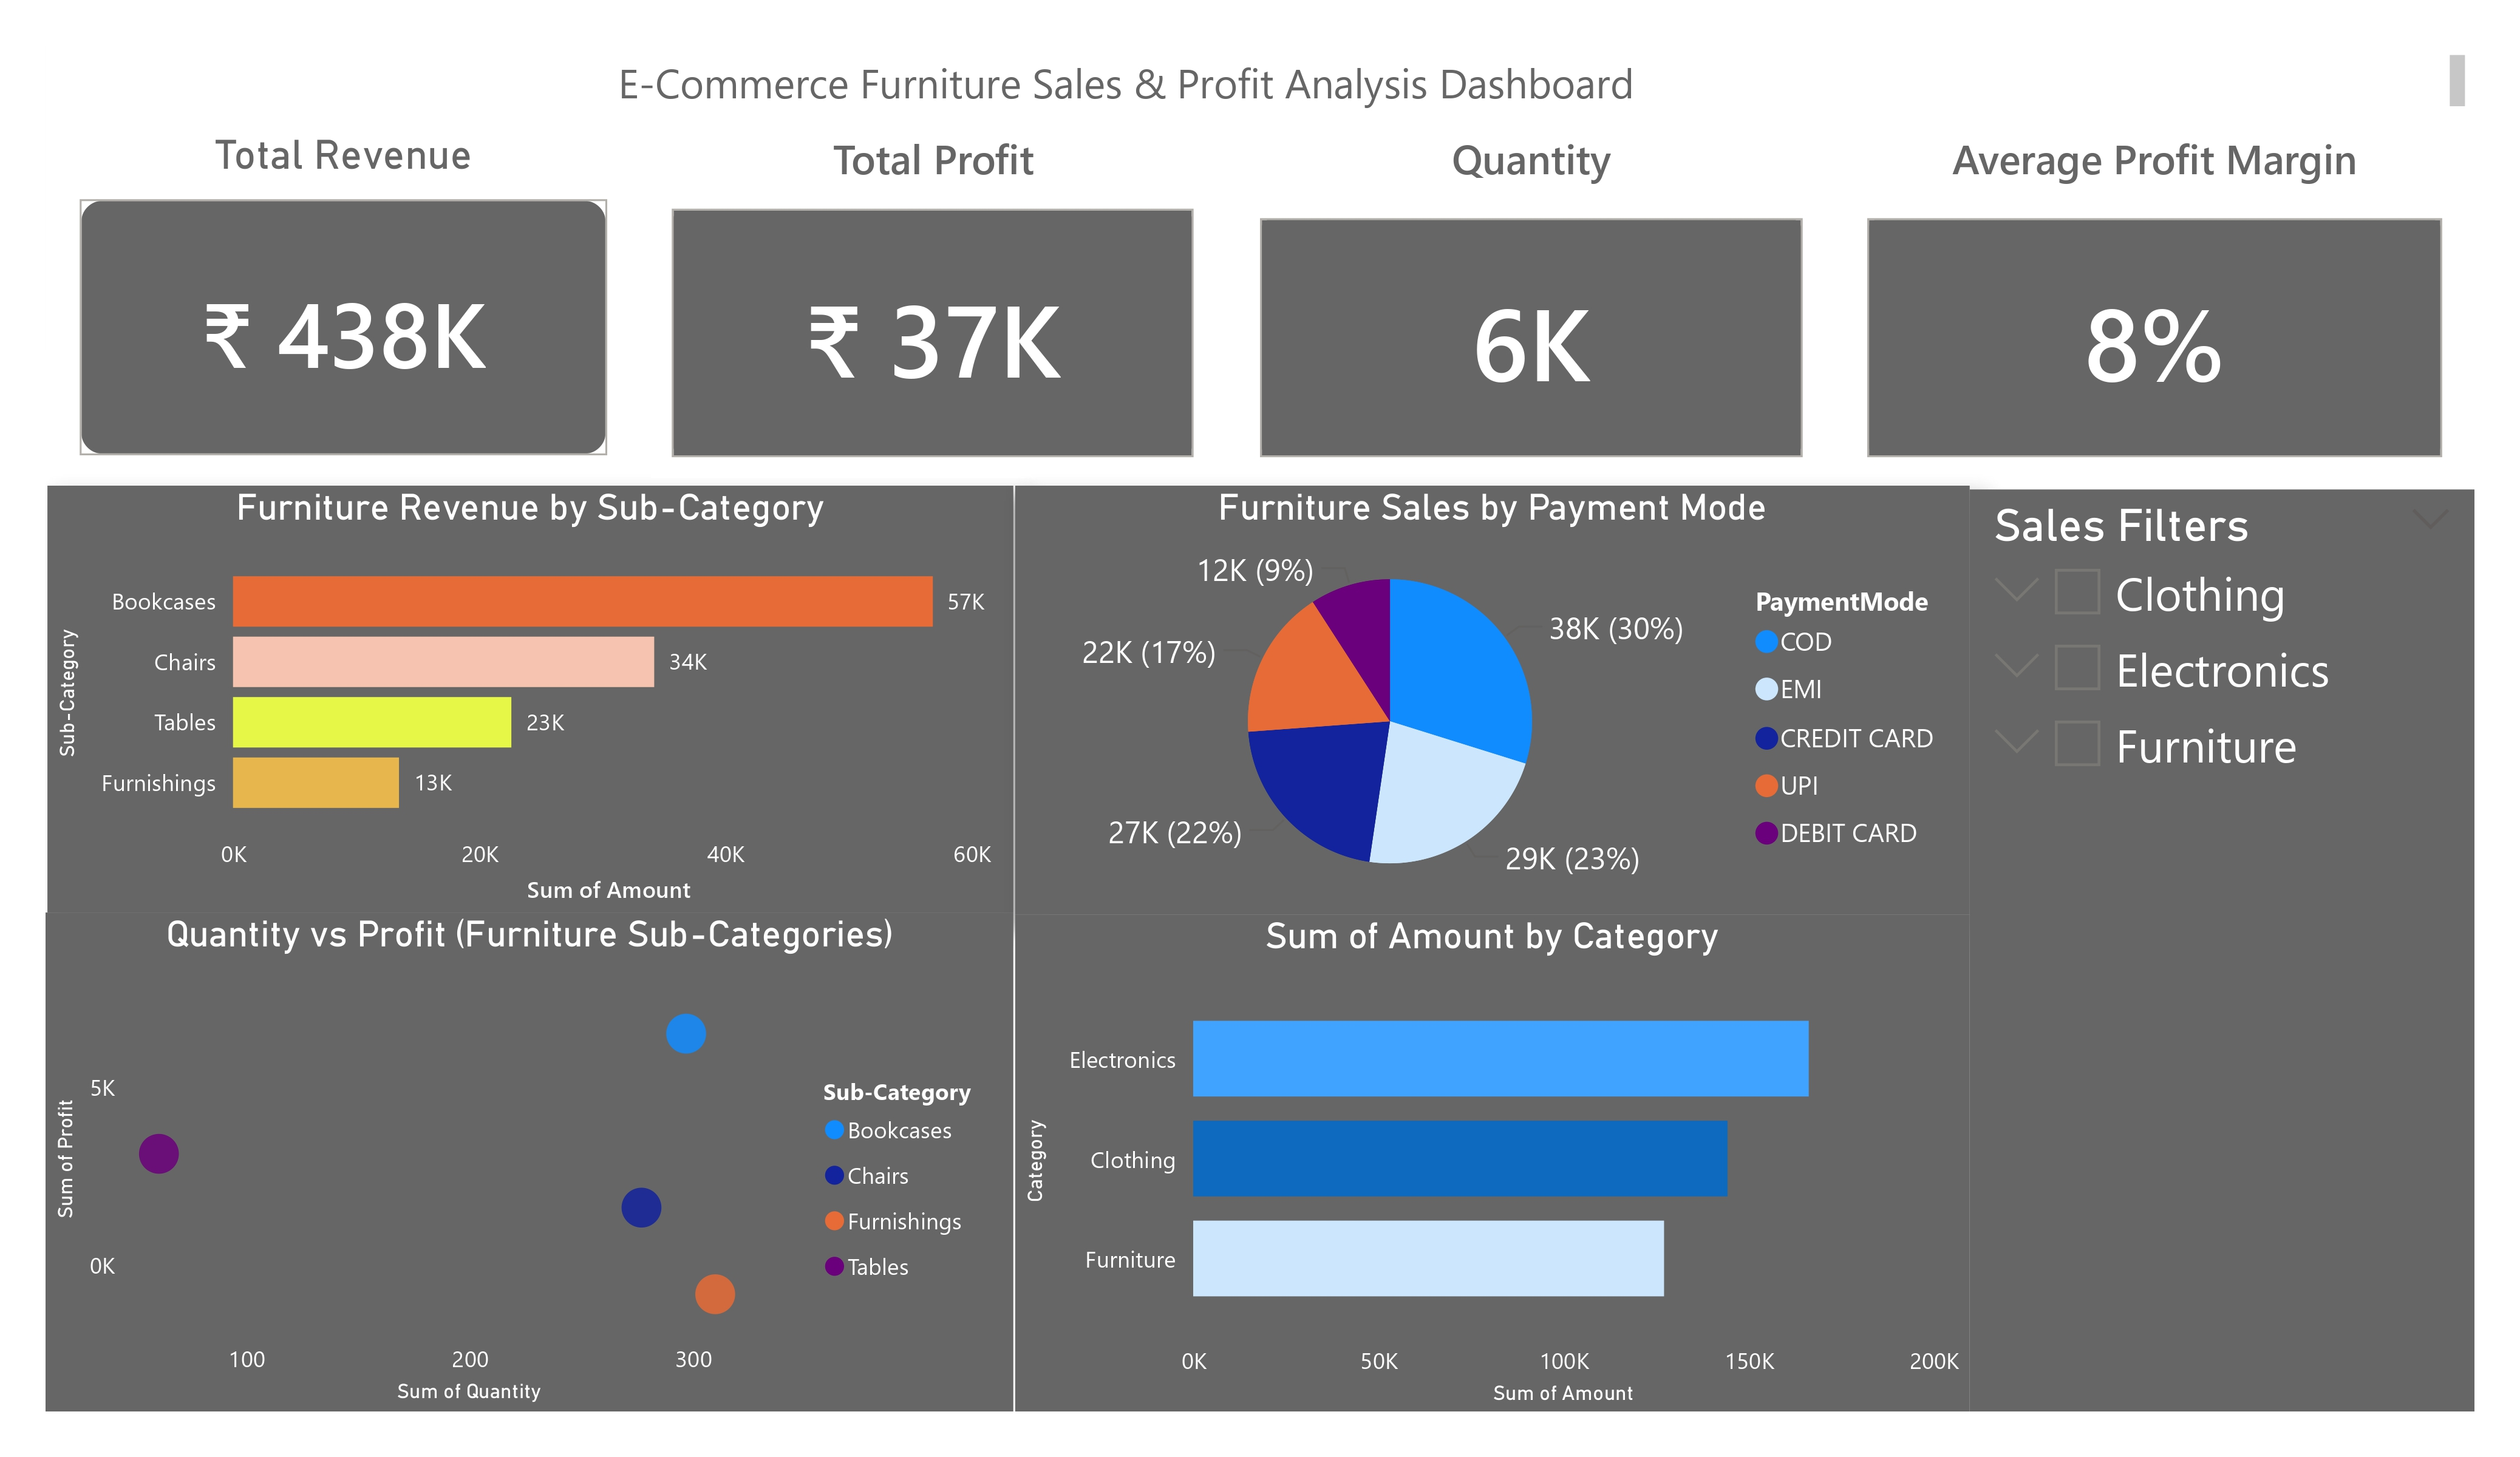

Layout of this report page (visuals, bound fields, positions):
{"tool":"powerbi","page":{"name":"Page 1","canvas":[1280,720],"ordinal":0},"visuals":[{"type":"cardVisual","title":"Total Revenue","fields":{"Data":["Sum(cleaned_e-commerce_dataset.Amount)"]},"box":[1.4,44.8,312,188.9],"z":0},{"type":"clusteredBarChart","title":"Furniture Revenue by Sub-Category","fields":{"Y":["Sum(cleaned_e-commerce_dataset.Amount)"],"Category":["cleaned_e-commerce_dataset.Sub-Category"]},"box":[1.4,231.9,509.1,225],"z":1000},{"type":"cardVisual","title":"Total Profit","fields":{"Data":["Sum(cleaned_e-commerce_dataset.Profit)"]},"box":[313.4,44.8,309.2,188.9],"z":2000},{"type":"cardVisual","title":"Quantity","fields":{"Data":["Sum(cleaned_e-commerce_dataset.Quantity)"]},"box":[622.7,44.8,320.4,188.9],"z":3000},{"type":"cardVisual","title":"Average Profit Margin","fields":{"Data":["cleaned_e-commerce_dataset.Measure"]},"box":[943.1,44.8,337.2,188.9],"z":4000},{"type":"pieChart","title":"Furniture Sales by Payment Mode","fields":{"Category":["cleaned_e-commerce_dataset.PaymentMode"],"Y":["Sum(cleaned_e-commerce_dataset.Amount)"]},"box":[510.7,232.3,503.7,225.3],"z":5000},{"type":"scatterChart","title":"Quantity vs Profit (Furniture Sub-Categories)","fields":{"X":["Sum(cleaned_e-commerce_dataset.Quantity)"],"Y":["Sum(cleaned_e-commerce_dataset.Profit)"],"Series":["cleaned_e-commerce_dataset.Sub-Category"]},"box":[0,456.9,510.5,263.5],"z":6000},{"type":"barChart","fields":{"Category":["cleaned_e-commerce_dataset.Category"],"Y":["Sum(cleaned_e-commerce_dataset.Amount)"]},"box":[510.7,457.5,503.7,263.1],"z":7000},{"type":"slicer","fields":{"Values":["cleaned_e-commerce_dataset.Category","cleaned_e-commerce_dataset.PaymentMode","cleaned_e-commerce_dataset.Sub-Category"]},"box":[1014.4,233.7,265.9,486.9],"z":7001},{"type":"textbox","box":[291,0,989.2,44.8],"z":7002}]}

Visuals, with their boxes on the page's 1280x720 design canvas (x1, y1, x2, y2). These are canvas units, not pixel positions in the 2520x1457 screenshot, which may show the page scaled, cropped or inside an application window:
"Total Revenue" cardVisual: region(1, 45, 313, 234)
"Furniture Revenue by Sub-Category" clusteredBarChart: region(1, 232, 510, 457)
"Total Profit" cardVisual: region(313, 45, 623, 234)
"Quantity" cardVisual: region(623, 45, 943, 234)
"Average Profit Margin" cardVisual: region(943, 45, 1280, 234)
"Furniture Sales by Payment Mode" pieChart: region(511, 232, 1014, 458)
"Quantity vs Profit (Furniture Sub-Categories)" scatterChart: region(0, 457, 510, 720)
barChart - cleaned_e-commerce_dataset.Category x Sum(cleaned_e-commerce_dataset.Amount): region(511, 458, 1014, 721)
slicer - cleaned_e-commerce_dataset.Category x cleaned_e-commerce_dataset.PaymentMode: region(1014, 234, 1280, 721)
textbox: region(291, 0, 1280, 45)
